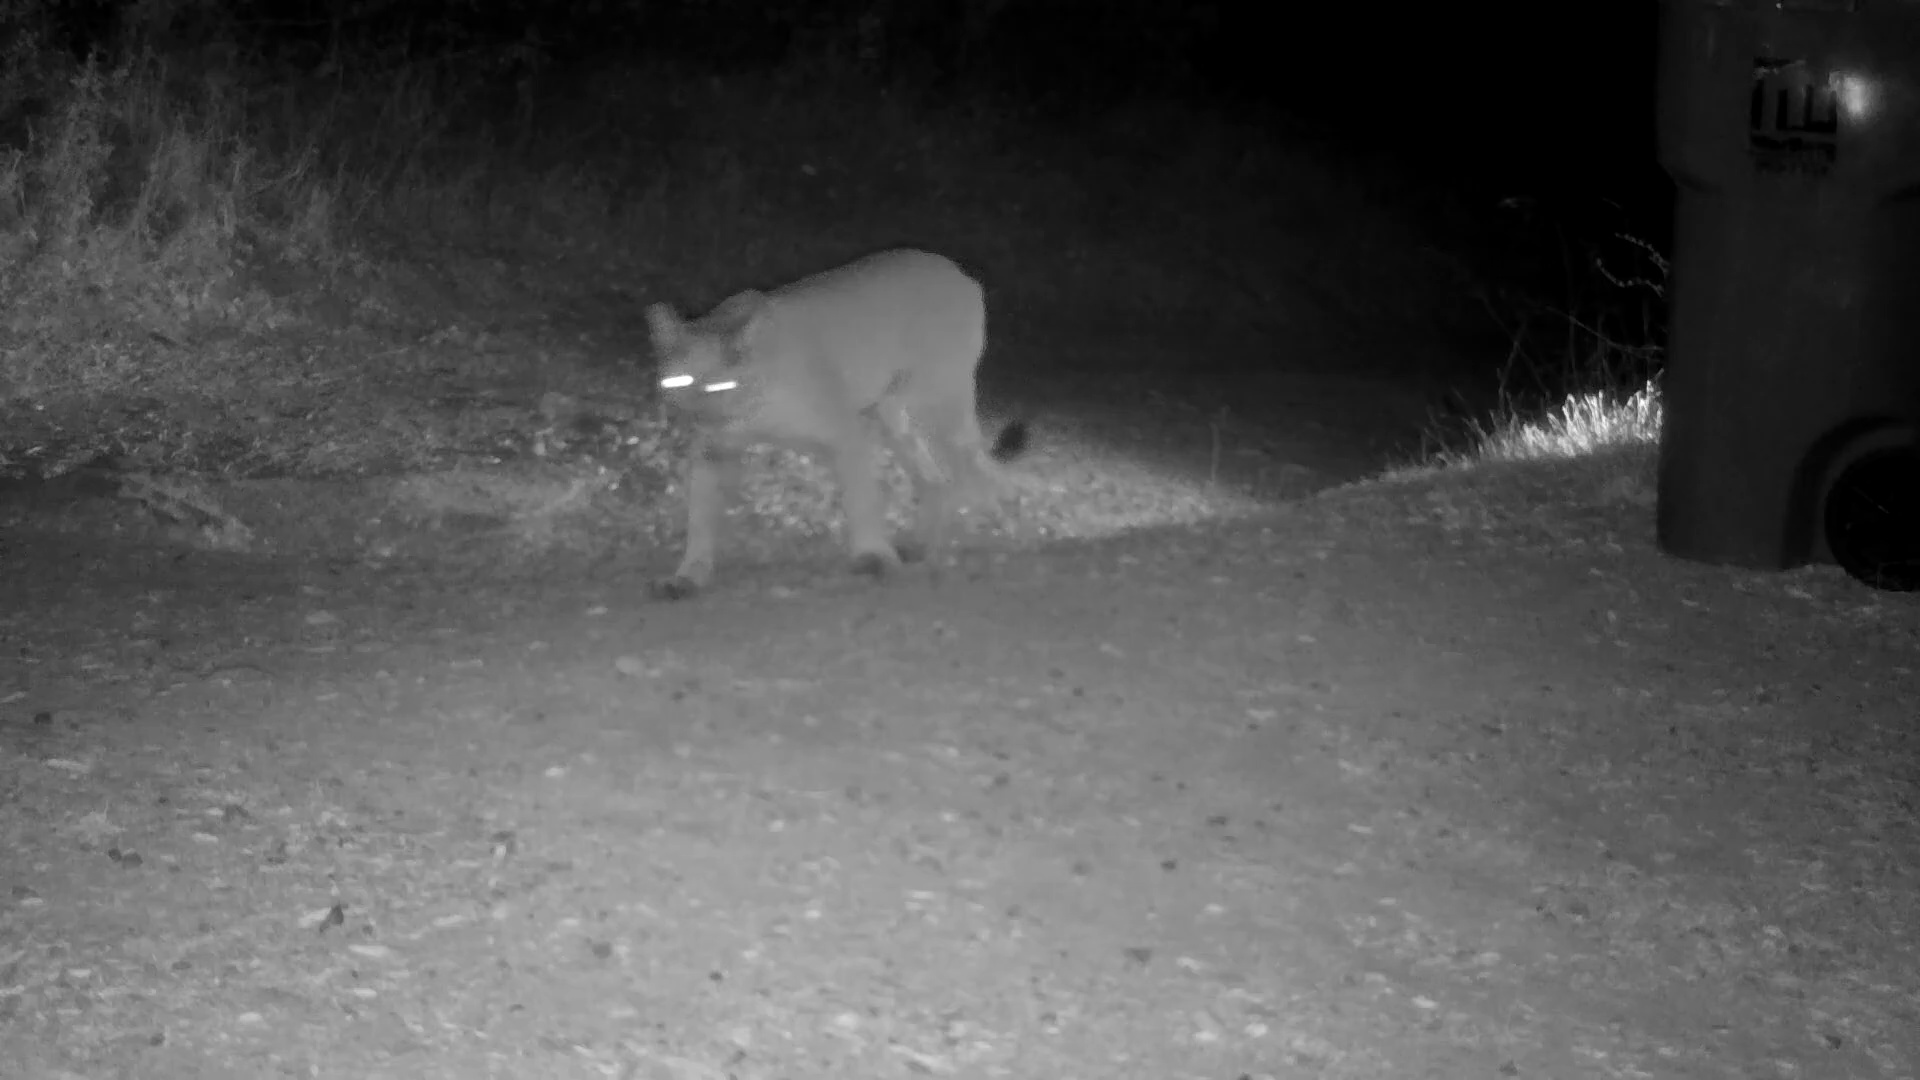Lion: (632, 245, 1033, 601)
